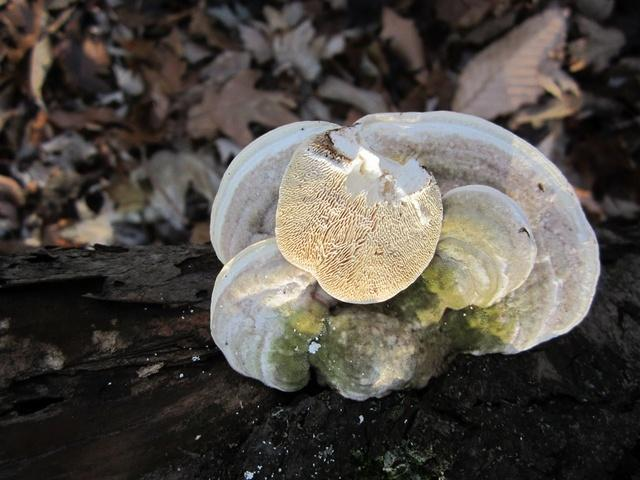Non-edible Mushroom: (206, 108, 601, 399)
